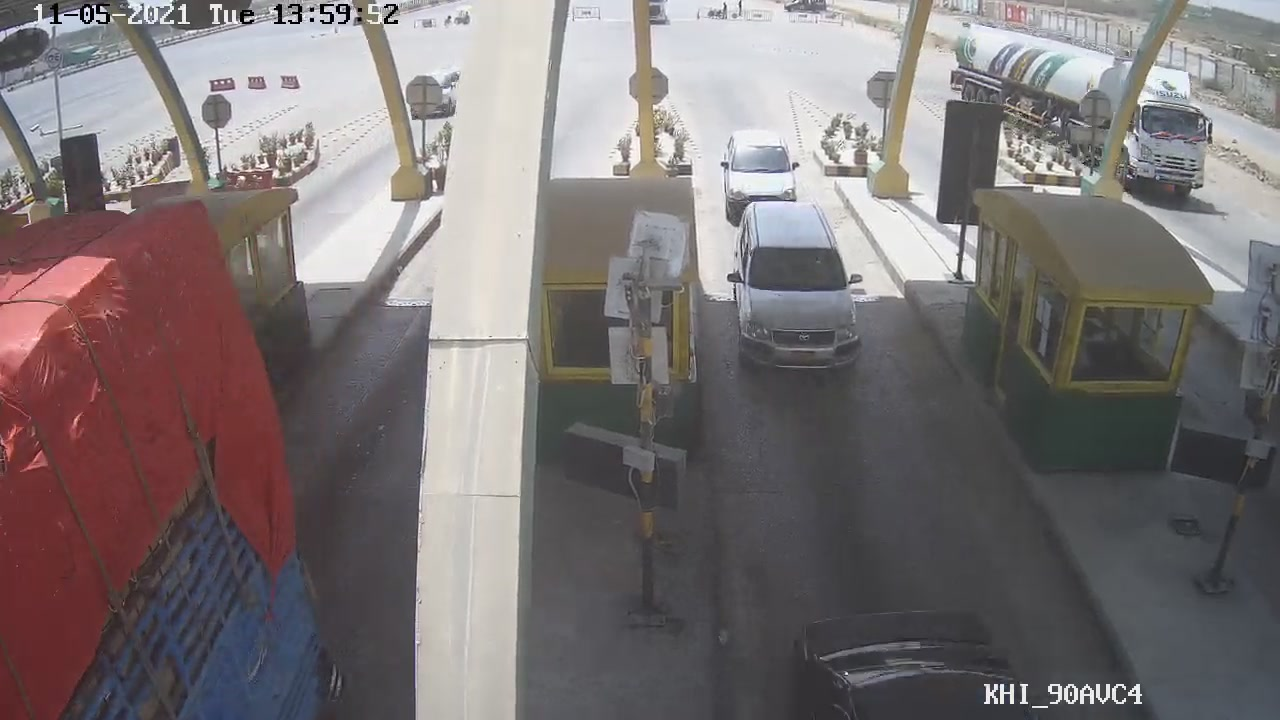F1: (704, 192, 869, 389)
